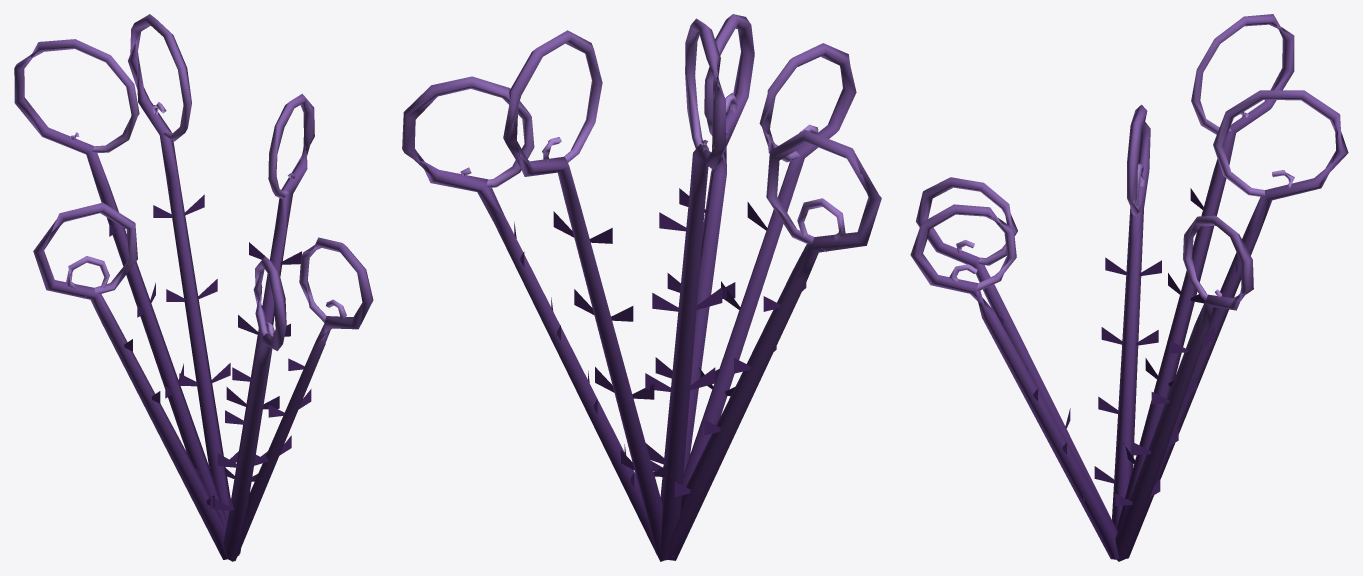
The model's file is curl_violet.glb.
3 views of the same model, side by side, from view 1: azimuth 30°, elevation 25°; view 2: azimuth 150°, elevation 25°; view 3: azimuth 270°, elevation 25° (orthographic). The views are drawn at different scales.
Parts seen in each view (by area): view 1: curl_violet; view 2: curl_violet; view 3: curl_violet.
Boxes of the visible parts, x1=… form: curl_violet: x1=14, y1=14, x2=373, y2=561; curl_violet: x1=402, y1=14, x2=881, y2=561; curl_violet: x1=910, y1=14, x2=1348, y2=561.
Bounding box in the file's own units: 0.5181 × 0.7382 × 0.5897.
